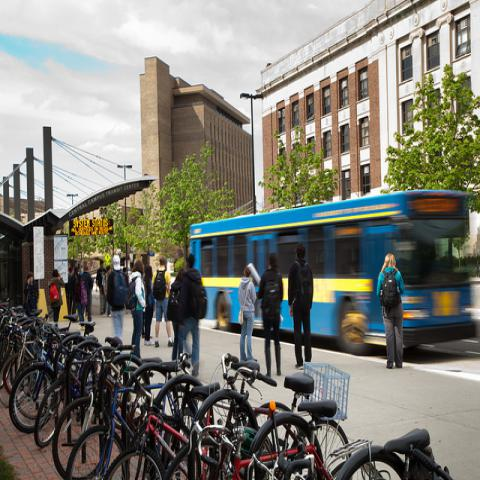bus: (192, 188, 474, 350)
